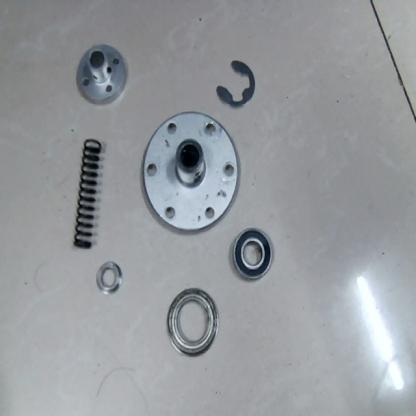FOD: (141, 112, 240, 236), (163, 286, 220, 359), (72, 138, 106, 255), (73, 43, 130, 110), (228, 228, 275, 284), (212, 57, 259, 109), (94, 260, 126, 301)
